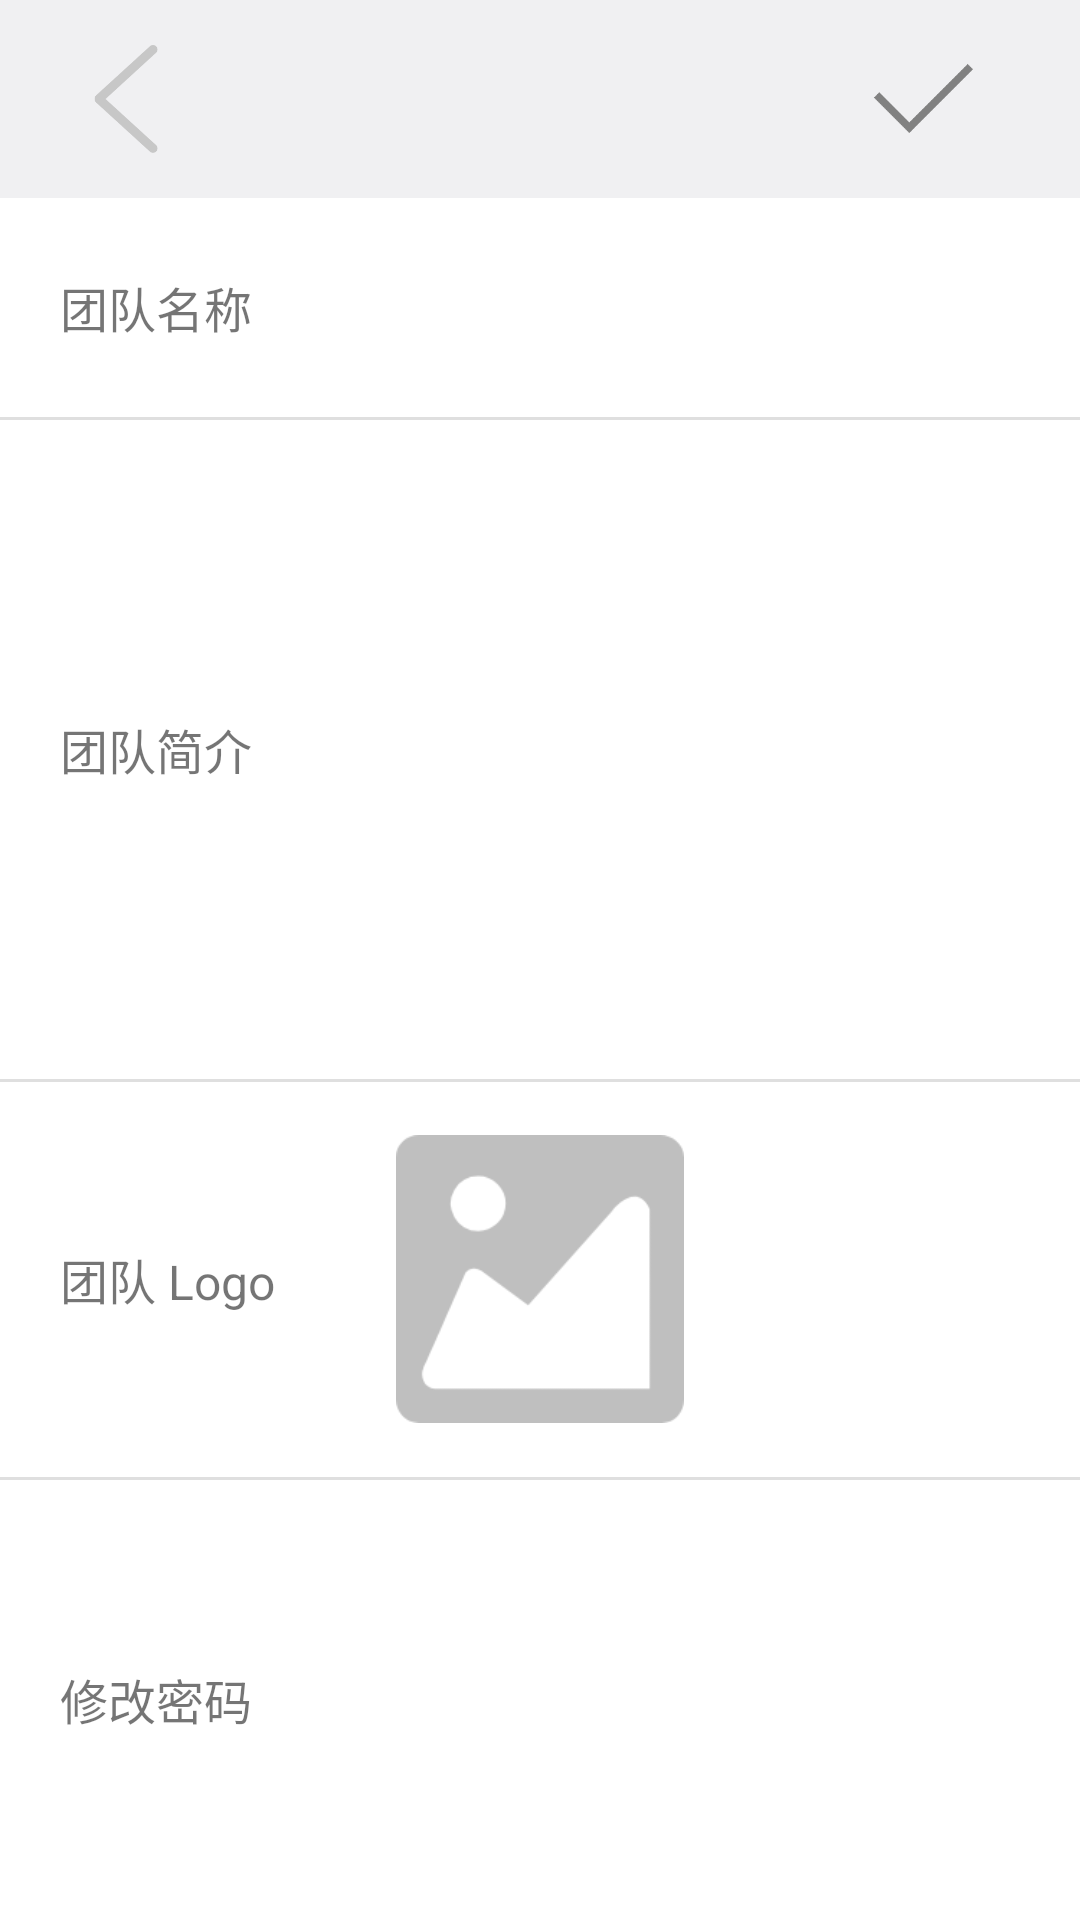

Screen size 1080 x 1920. Icon name, then its box in pixels as [x1, y1, x2, y2]:
确定: [874, 64, 973, 133]
返回: [95, 45, 157, 153]
选择图片: [396, 1135, 684, 1423]
